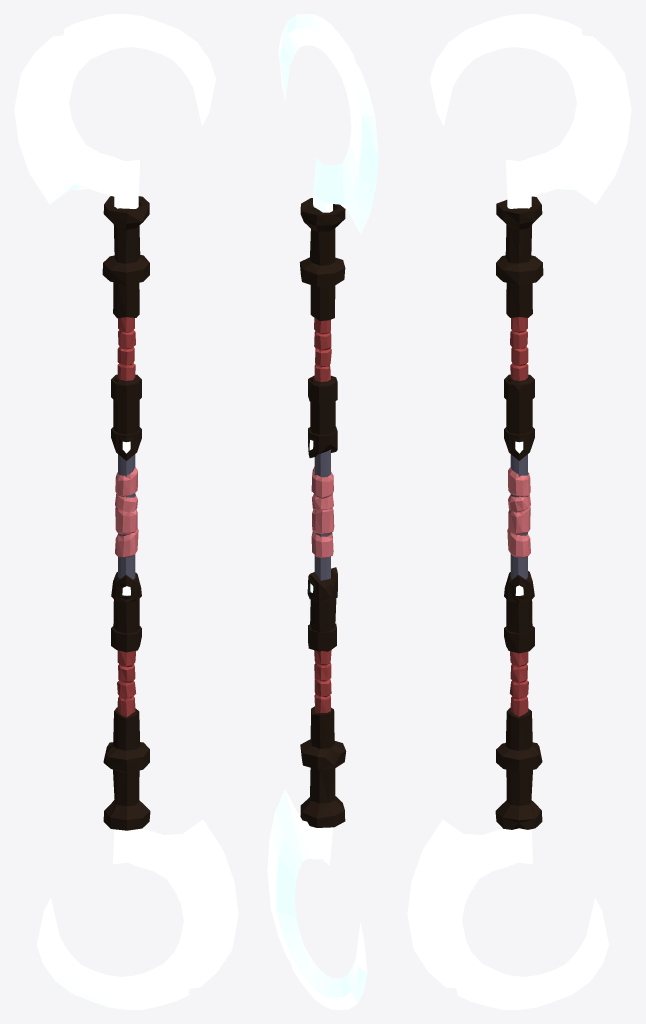
File: SFFA_Weapon_Spear_Runical_006.fbx
3 renders of one model, left to right at view 1: azimuth 90°, elevation 25°; view 2: azimuth 210°, elevation 25°; view 3: azimuth 270°, elevation 25°, orthographic.
Parts seen in each view (by area): view 1: SFFA_Weapon_Spear_Runical_006; view 2: SFFA_Weapon_Spear_Runical_006; view 3: SFFA_Weapon_Spear_Runical_006.
Boxes of the visible parts, x1,y1,x2,y2 form: SFFA_Weapon_Spear_Runical_006: (14,14,238,1009); SFFA_Weapon_Spear_Runical_006: (267,14,378,1009); SFFA_Weapon_Spear_Runical_006: (407,14,631,1009).
Size of the model in its own units: 8.09 by 186 by 38.04.
